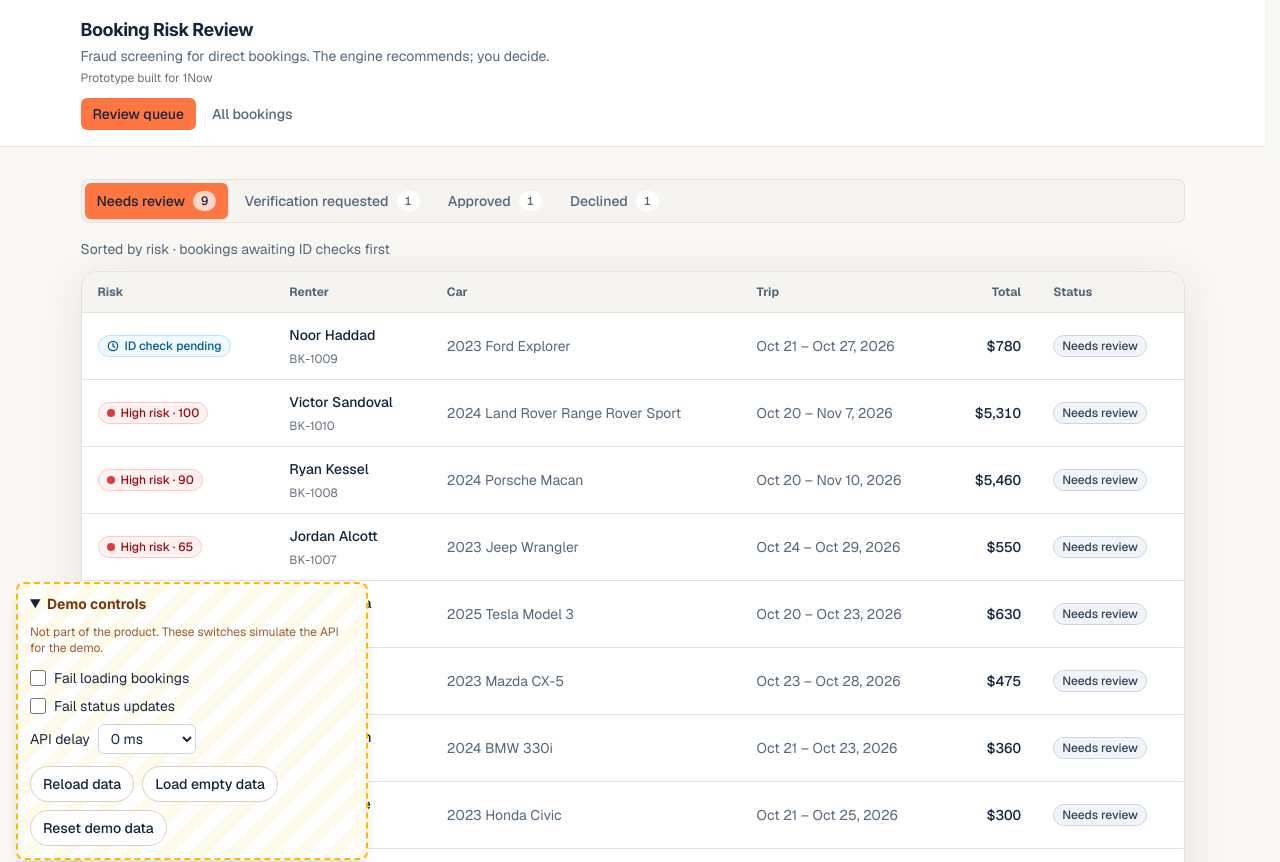
Test case: App › switches to All bookings when its link is clicked
This screenshot has width=1280, height=862.
Click the link "All bookings".
click(252, 114)  # box [212,105,292,123]
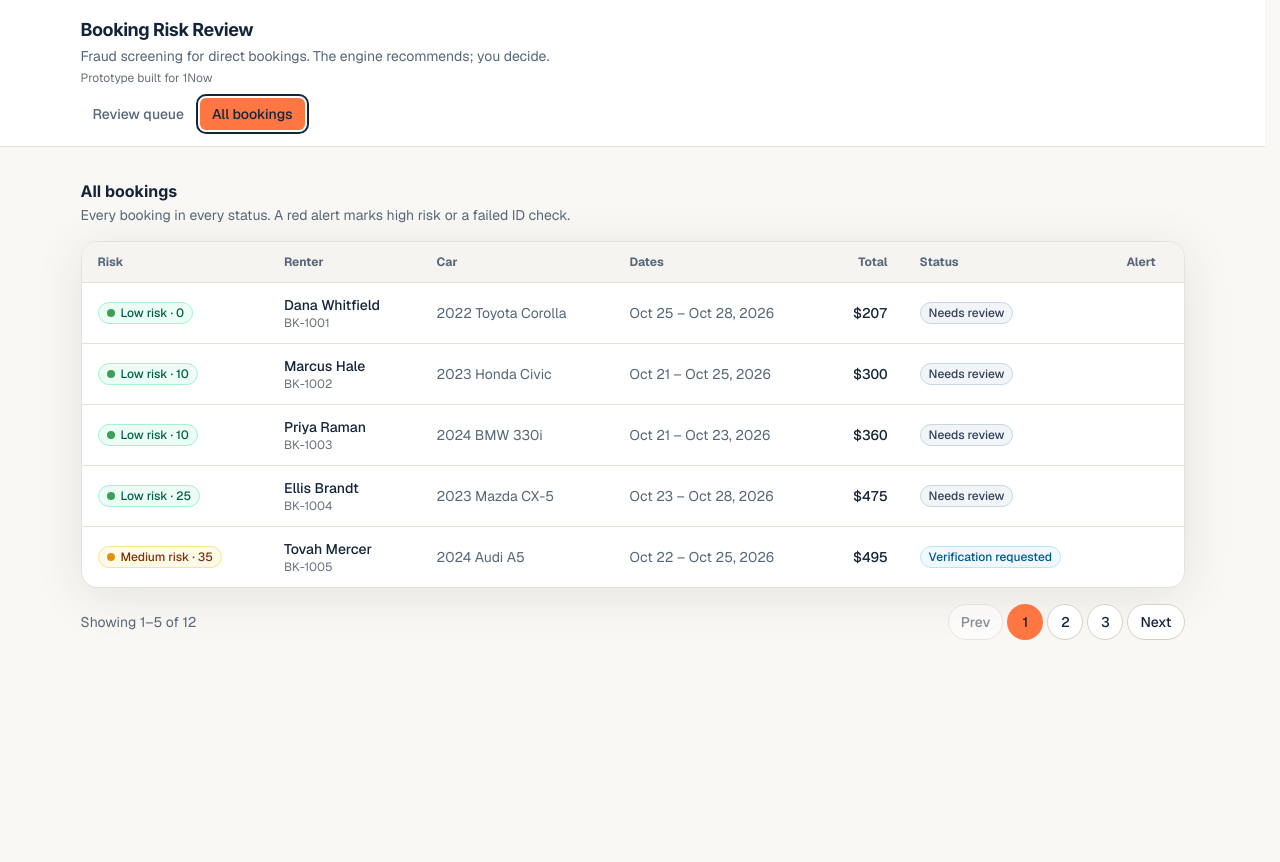
Now the element "All bookings" is shown, box [80,179,1184,640]
